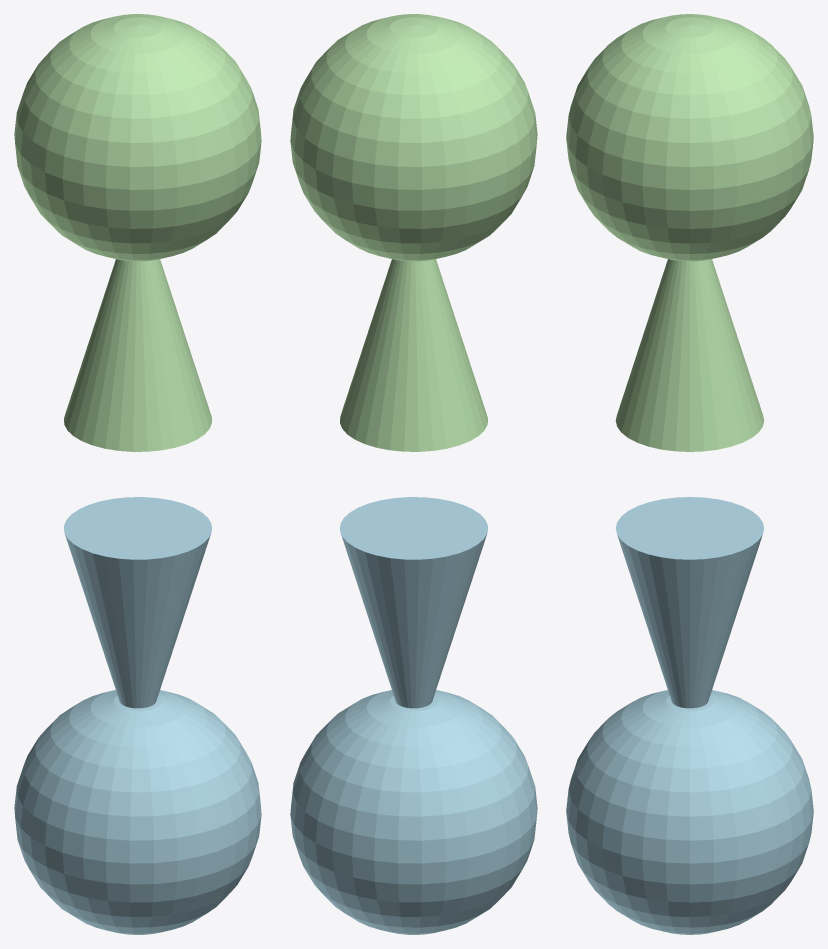
3 views of the same model, side by side, from view 1: azimuth 30°, elevation 25°; view 2: azimuth 150°, elevation 25°; view 3: azimuth 270°, elevation 25° (orthographic).
Visible parts, largest first — view 1: sphere, sphere.001, conus.001, conus; view 2: sphere, sphere.001, conus.001, conus; view 3: sphere, sphere.001, conus.001, conus.
Part boxes in pixels (<box>): sphere: <box>14,14,261,261</box>; sphere.001: <box>14,690,261,934</box>; conus.001: <box>64,497,211,708</box>; conus: <box>64,259,211,451</box>; sphere: <box>290,14,537,261</box>; sphere.001: <box>290,690,537,934</box>; conus.001: <box>340,497,487,708</box>; conus: <box>340,259,487,451</box>; sphere: <box>566,14,813,261</box>; sphere.001: <box>566,690,813,934</box>; conus.001: <box>615,497,764,708</box>; conus: <box>615,259,764,451</box>.
Size of the model in its own units: 1 by 4 by 1.
